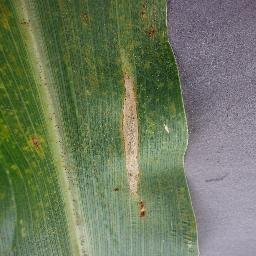Corn_Blight: (113, 50, 152, 221), (70, 196, 90, 256), (138, 1, 165, 38), (0, 105, 13, 147), (24, 132, 48, 154), (0, 0, 13, 32), (78, 10, 92, 28), (18, 13, 32, 27)
